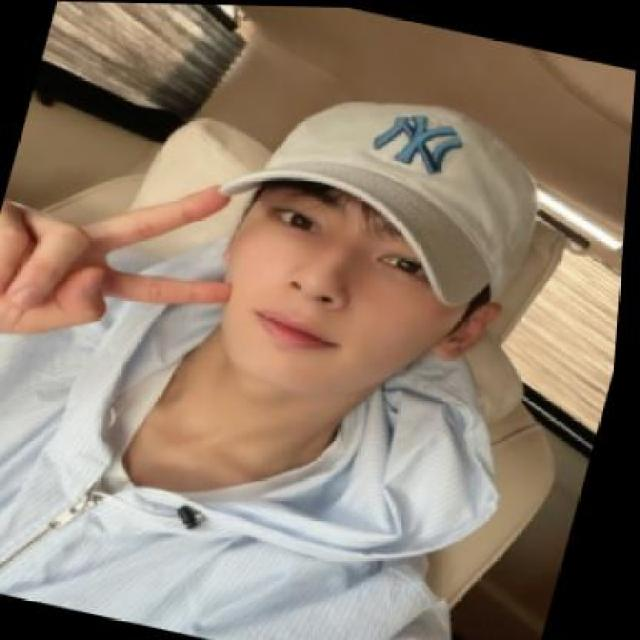hat: (199, 60, 575, 318)
